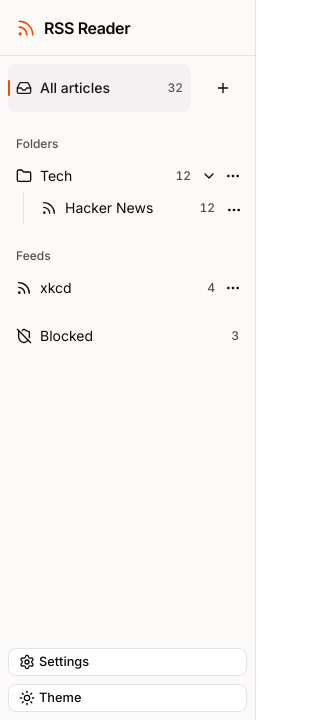
Test: AppSidebar › toggles the folder on chevron click without changing selection
Expected: the text "Hacker News" is shown, [65,198,153,218]
Click the button named "Toggle Tech" at coordinates (209, 176), box [199,166,219,186]
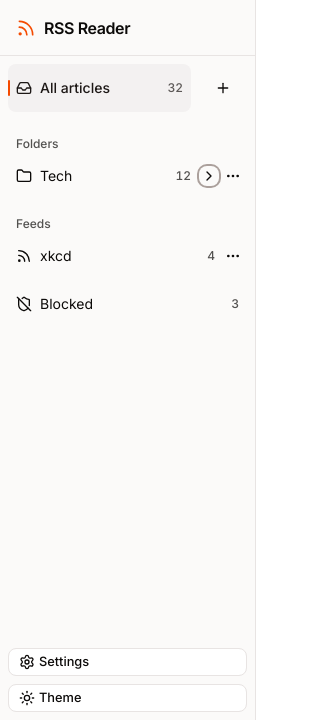
Expected: the text "Hacker News" is gone
Expanding again brings the feed back.
Click the button named "Toggle Tech" at coordinates (209, 176), box [199,166,219,186]
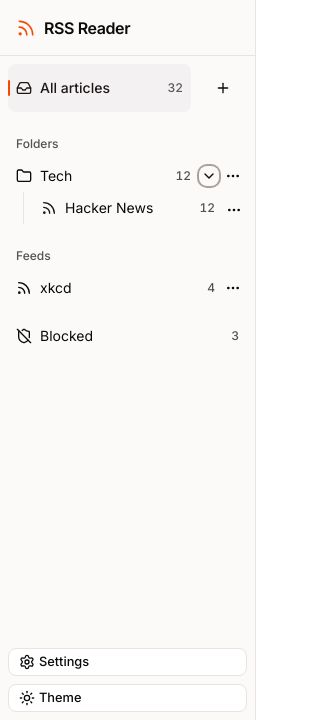
Expected: the text "Hacker News" is shown, [65,198,153,218]
